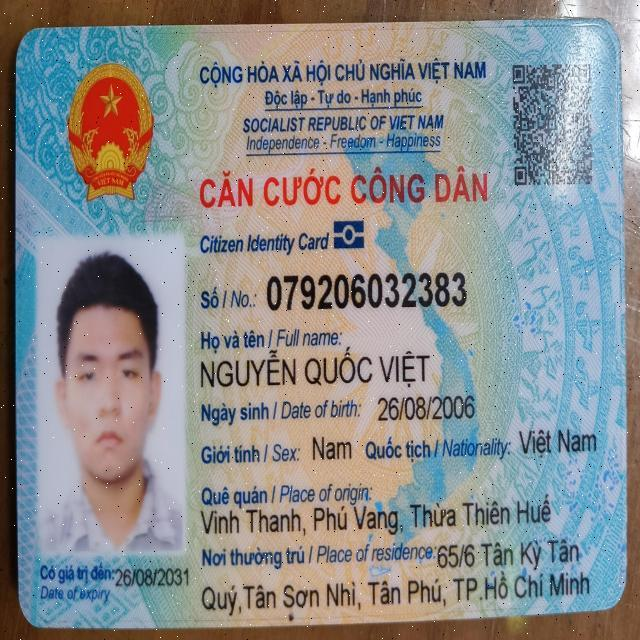current_place: (199, 571, 592, 609), (436, 536, 581, 571)
dob: (376, 392, 477, 424)
expire_date: (114, 564, 190, 592)
gender: (310, 433, 354, 463)
id: (265, 268, 470, 314)
name: (199, 344, 432, 389)
nationality: (518, 428, 597, 459)
origin_place: (198, 499, 554, 536)
qr: (508, 54, 602, 198)
